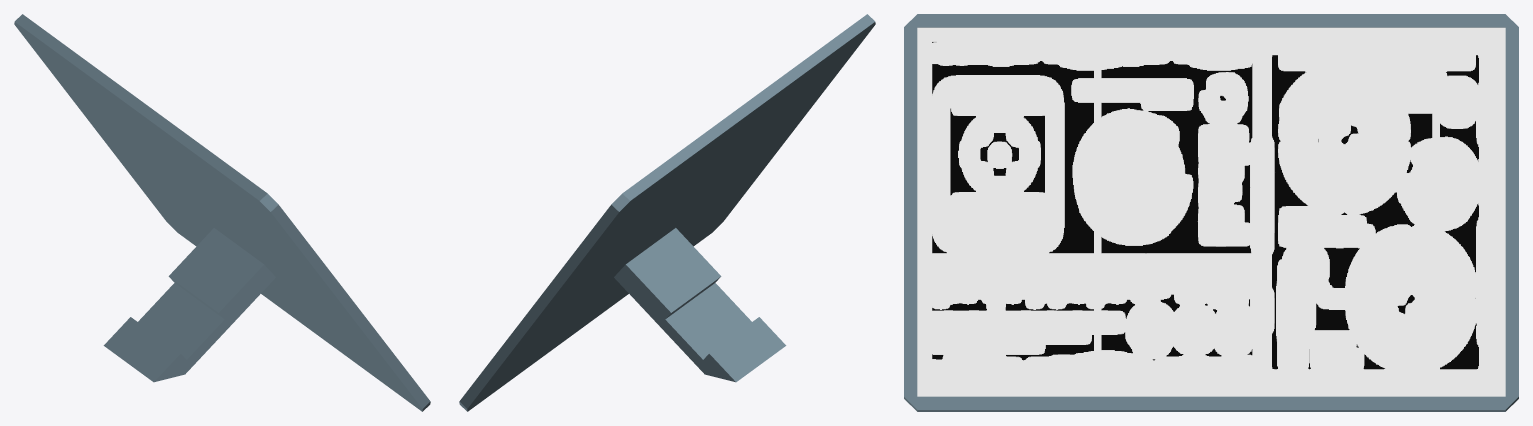
File: tablet with stand.fbx
The picture shows the model from 3 angles, left to right: view 1: azimuth 30°, elevation 25°; view 2: azimuth 150°, elevation 25°; view 3: azimuth 270°, elevation 25°; orthographic projection. The views are drawn at different scales.
Parts seen in each view (by area): view 1: tablet, stand; view 2: tablet, stand; view 3: tablet.
Boxes of the visible parts, bbox=[...] form: tablet: bbox=[14, 14, 430, 411]; stand: bbox=[103, 228, 275, 382]; tablet: bbox=[459, 14, 875, 411]; stand: bbox=[614, 228, 786, 382]; tablet: bbox=[904, 14, 1518, 411].
Size of the model in its own units: 9.28 by 12.69 by 23.
